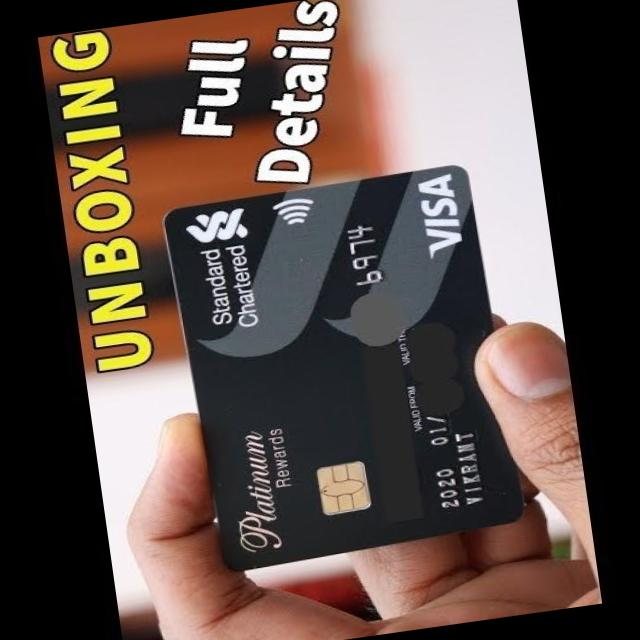card: (163, 162, 526, 565)
